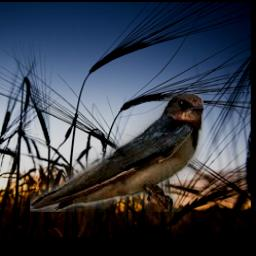Swallow: (31, 94, 205, 212)
